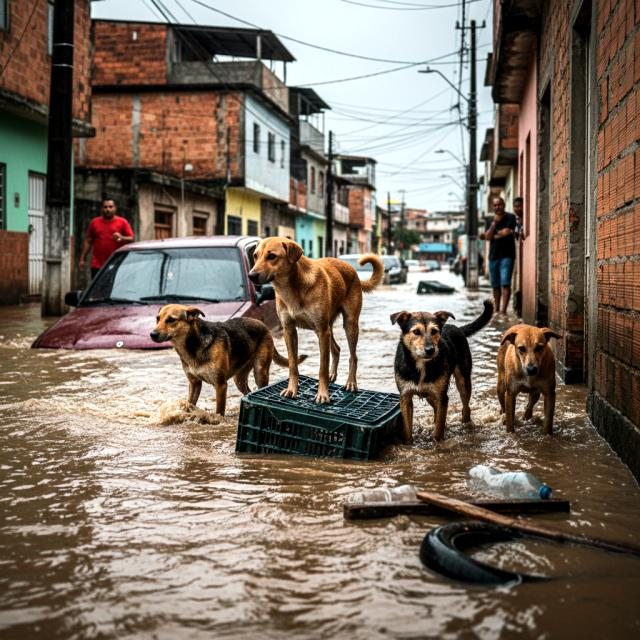civilian: (79, 192, 139, 286), (478, 192, 516, 318), (512, 192, 525, 230)
dog: (240, 232, 382, 410), (145, 301, 309, 414), (385, 298, 496, 439), (486, 316, 566, 434)
